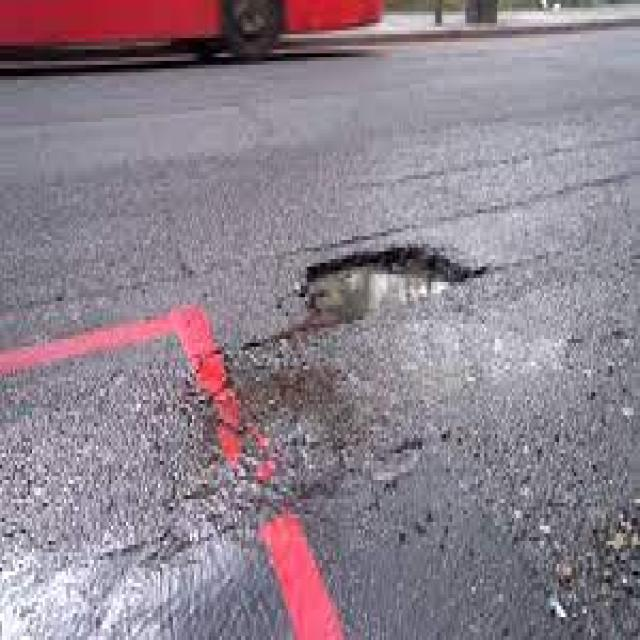Pothole: (301, 248, 480, 328)
